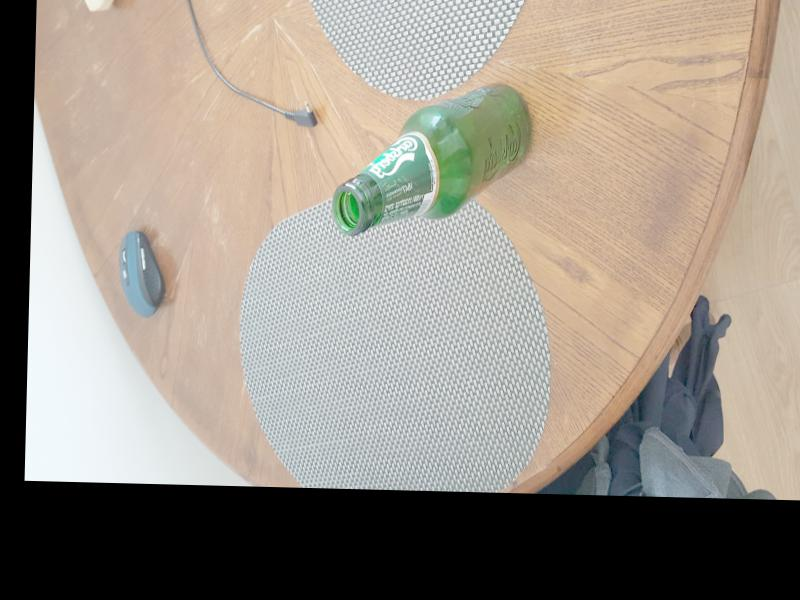Beer: (331, 71, 537, 242)
